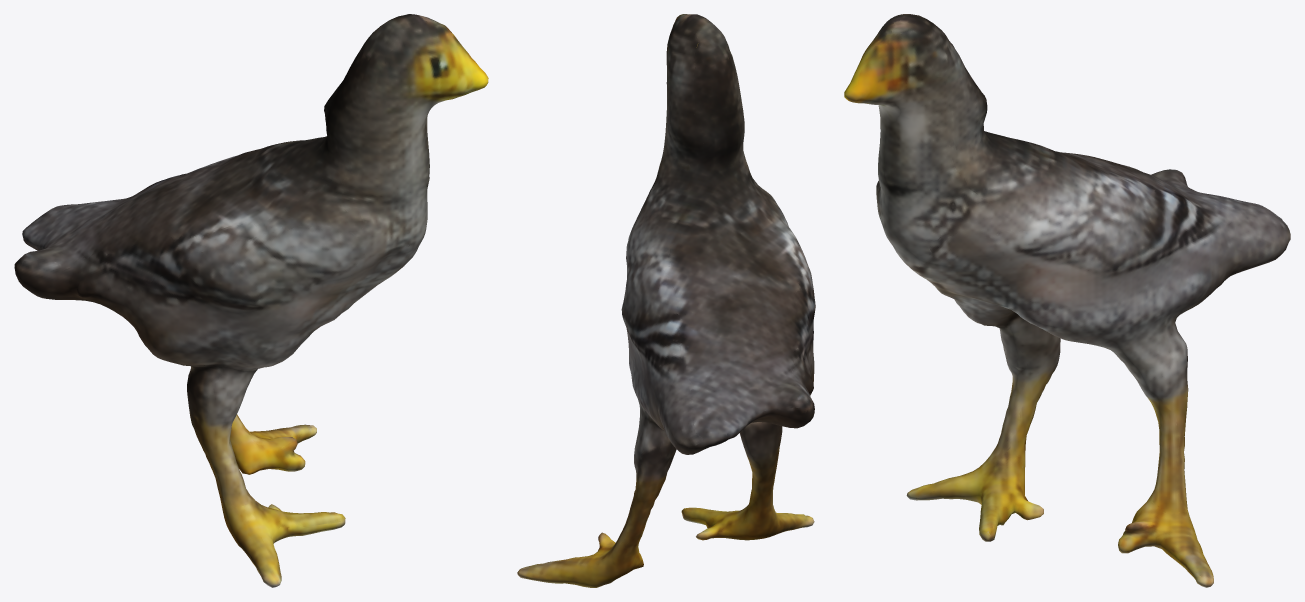
File: bebe.glb
3 views of the same model, side by side, from view 1: azimuth 30°, elevation 25°; view 2: azimuth 150°, elevation 25°; view 3: azimuth 270°, elevation 25° (orthographic). The views are drawn at different scales.
Visible parts, largest first — view 1: mesh; view 2: mesh; view 3: mesh.
Boxes of the visible parts, bbox=[...] form: mesh: bbox=[14, 14, 488, 587]; mesh: bbox=[517, 14, 815, 587]; mesh: bbox=[844, 14, 1290, 587].
Size of the model in its own units: 0.9805 by 1.6 by 1.18.
Materials: 1 (1 with a texture image).
